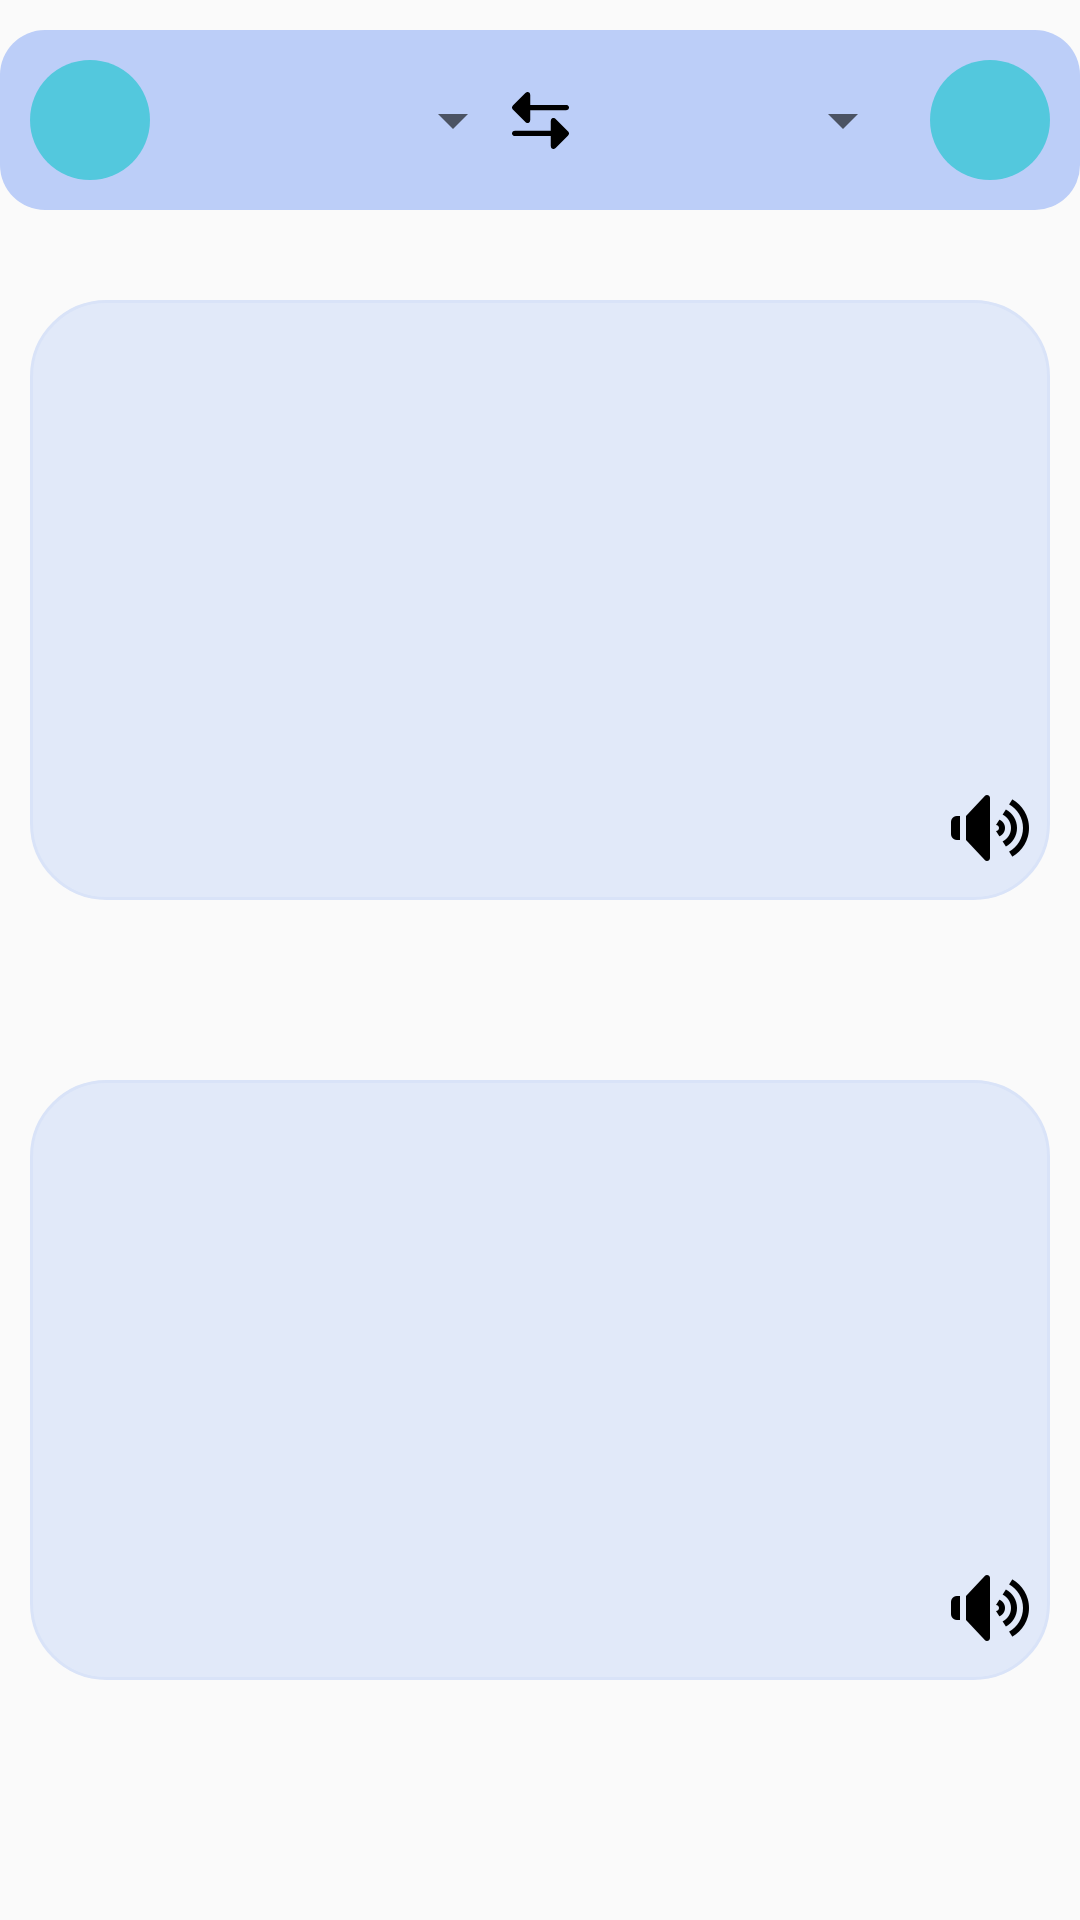

Where to tap for icons on this 1080×1920 app screen, as point (x, y):
exchange: point (540, 120)
speaker: point (990, 828), point (990, 1608)
